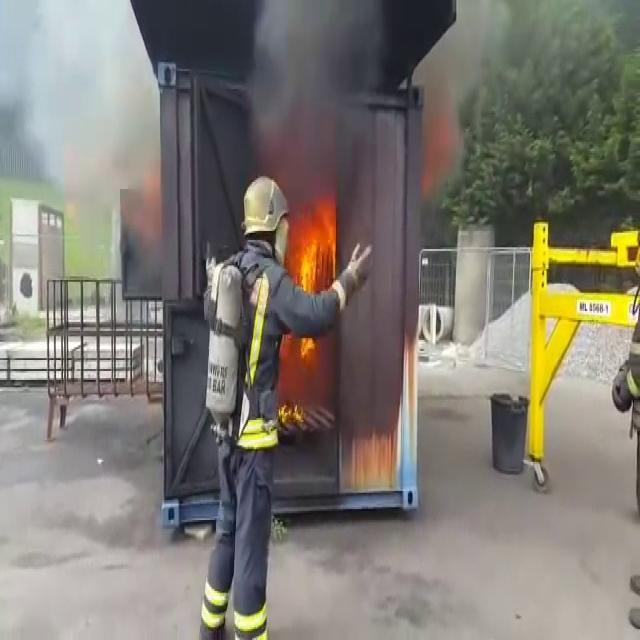Fire: (295, 198, 338, 286), (276, 399, 312, 442), (293, 338, 321, 368)
Smoke: (241, 20, 388, 146)
